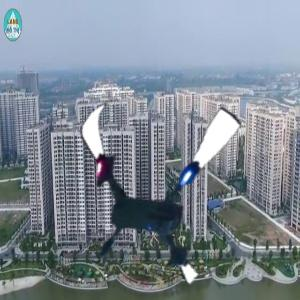drone: (49, 79, 259, 289)
